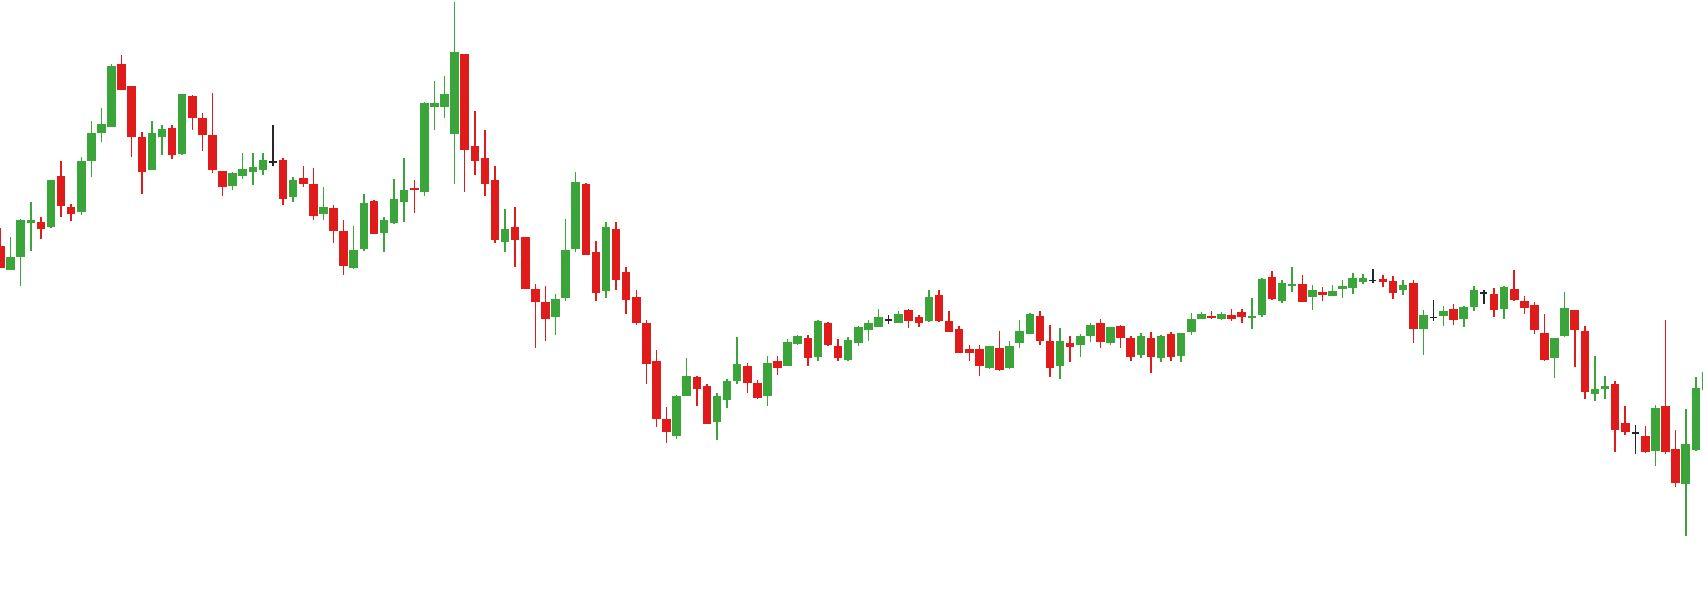sell: (502, 165, 592, 279)
